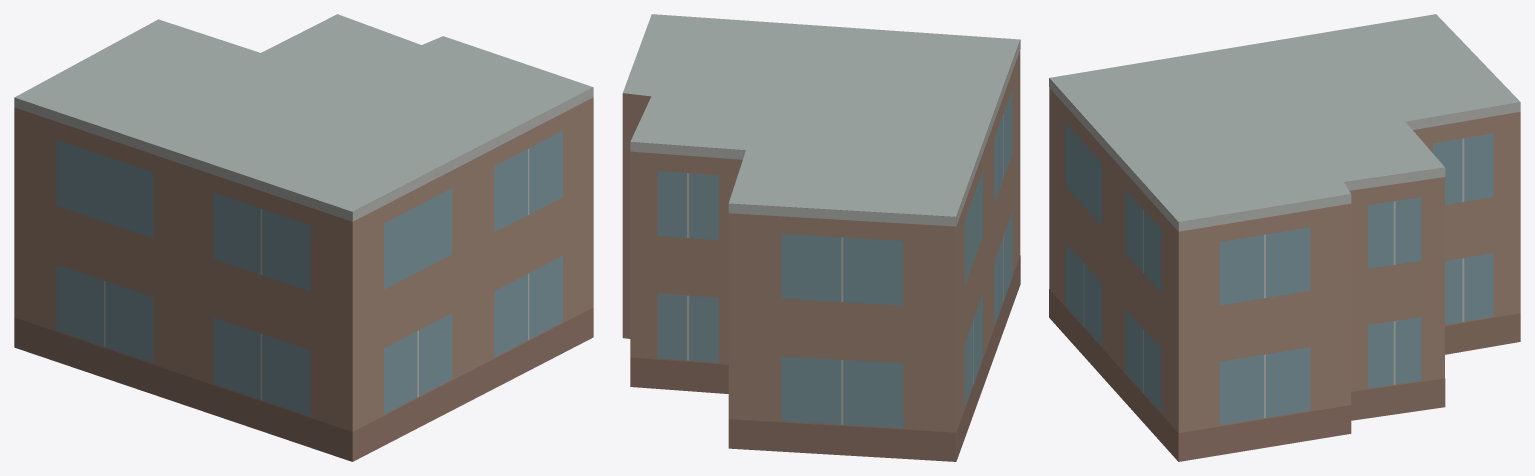
The model's file is survey-upis-32818454.glb.
3 renders of one model, left to right at view 1: azimuth 30°, elevation 25°; view 2: azimuth 150°, elevation 25°; view 3: azimuth 270°, elevation 25°, orthographic. The views are drawn at different scales.
Parts seen in each view (by area): view 1: survey-upis-32818454.tmp; view 2: survey-upis-32818454.tmp; view 3: survey-upis-32818454.tmp.
Boxes of the visible parts, x1=… form: survey-upis-32818454.tmp: x1=14, y1=14, x2=593, y2=461; survey-upis-32818454.tmp: x1=622, y1=14, x2=1020, y2=461; survey-upis-32818454.tmp: x1=1049, y1=14, x2=1520, y2=461.
Bounding box in the file's own units: 11.37 × 6.1 × 10.88.
